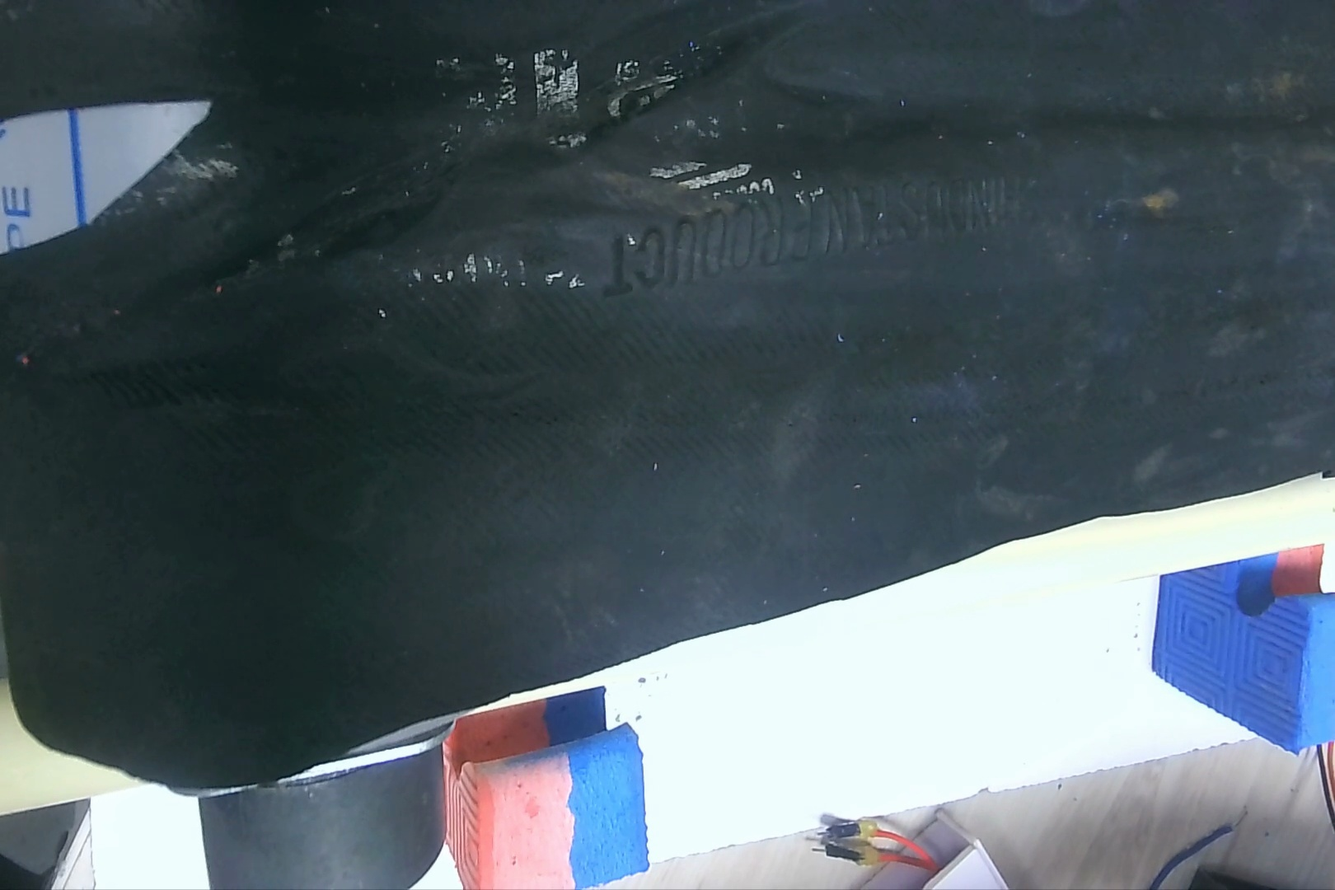hole: (16, 48, 251, 280)
tear: (685, 171, 769, 190)
